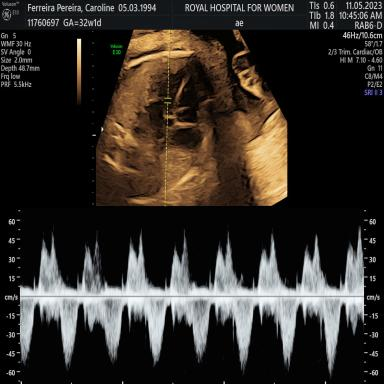Ultrasound-Waves: (24, 214, 362, 384)
